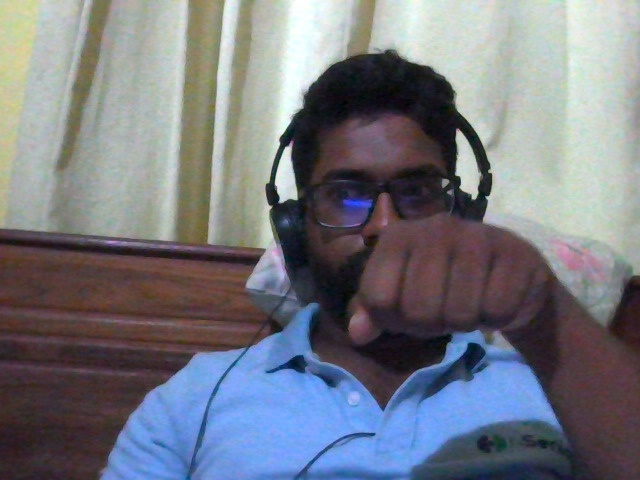Yes: (282, 165, 600, 376)
